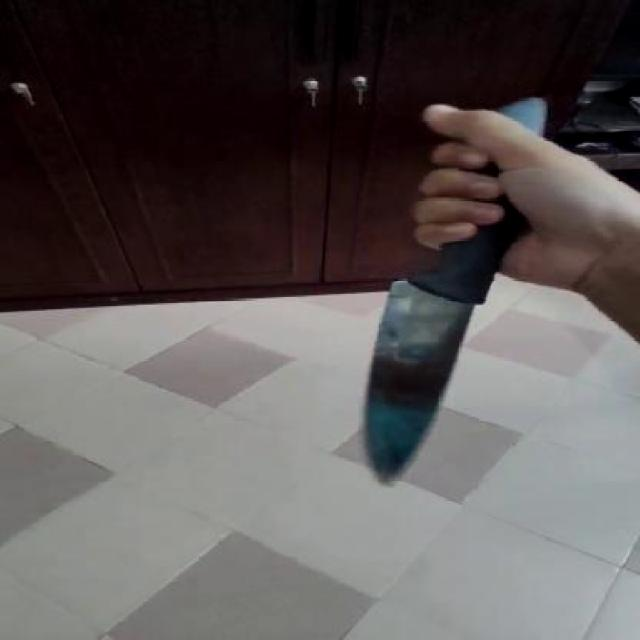knife: (344, 283, 498, 485)
